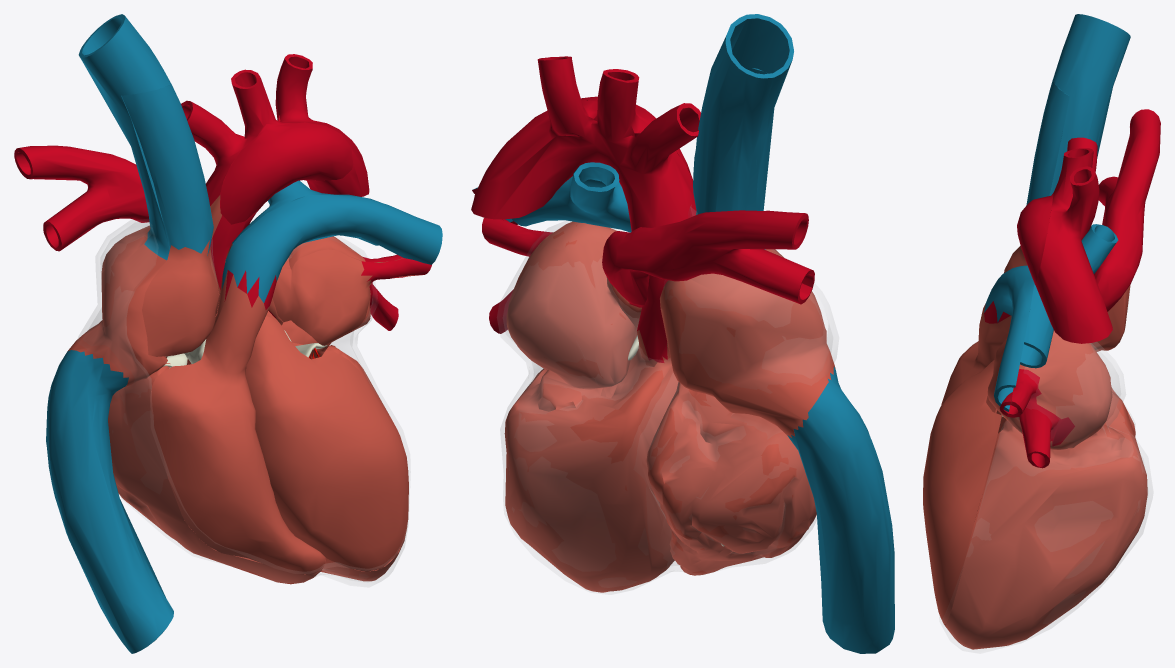
The model's file is heart.glb.
3 renders of one model, left to right at view 1: azimuth 30°, elevation 25°; view 2: azimuth 150°, elevation 25°; view 3: azimuth 270°, elevation 25°, orthographic. The views are drawn at different scales.
Parts seen in each view (by area): view 1: slice heart, cut heart, pericardium, tricuspid; view 2: cut heart, pericardium, slice heart; view 3: cut heart, slice heart, pericardium.
Part boxes in pixels (x1,y1,x2,y2): slice heart: [121, 83, 442, 574]; cut heart: [14, 14, 422, 653]; pericardium: [78, 220, 410, 586]; tricuspid: [163, 330, 327, 368]; cut heart: [471, 14, 894, 653]; pericardium: [497, 206, 838, 594]; slice heart: [472, 68, 783, 257]; cut heart: [944, 14, 1160, 649]; slice heart: [923, 78, 1069, 624]; pericardium: [939, 342, 1152, 653].
Bounding box in the file's own units: 3.37 × 5.02 × 1.93.
